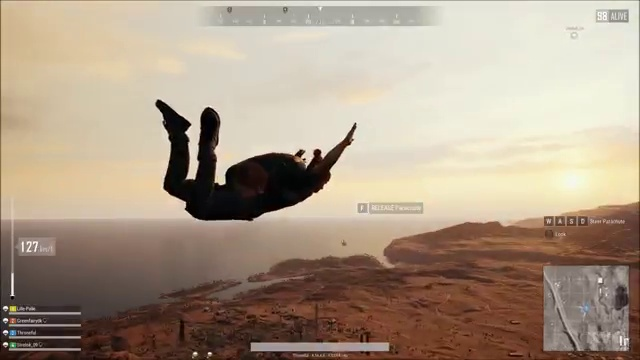Player: (126, 92, 360, 237)
